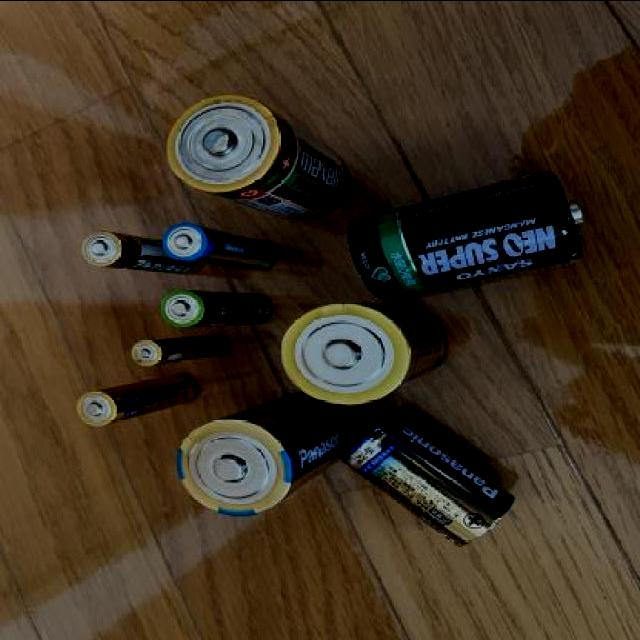AA: (75, 370, 200, 428), (74, 229, 203, 277), (162, 220, 276, 271), (158, 283, 277, 329)
AAA: (127, 330, 230, 368)
